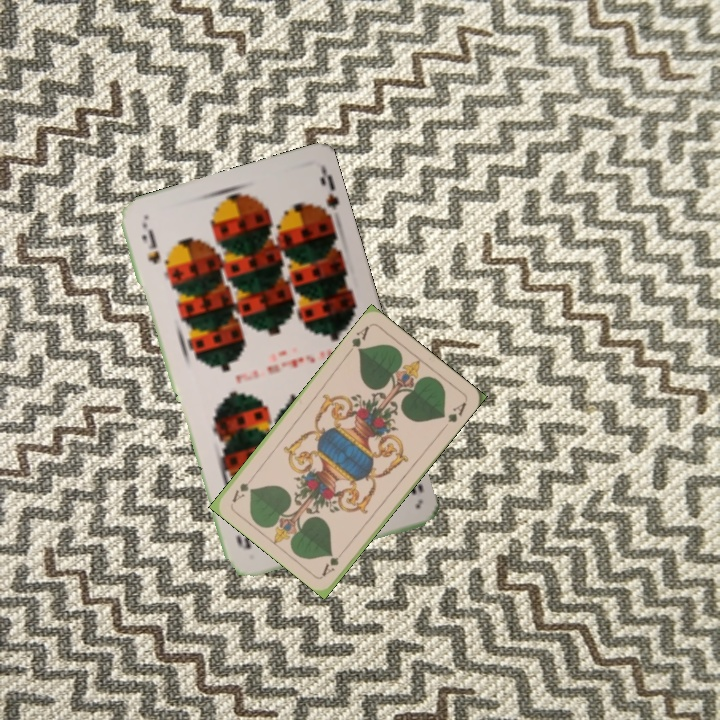GA: (318, 544, 349, 579), (344, 322, 372, 357)
S9: (137, 230, 163, 267)
